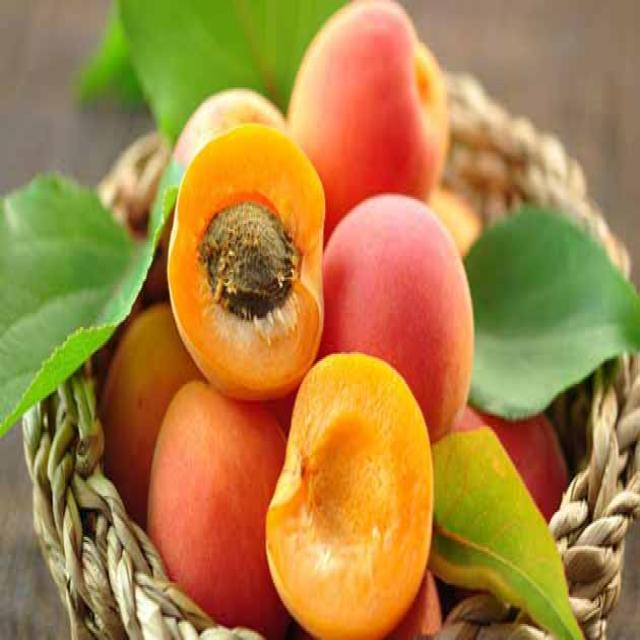cekirdek: (197, 205, 297, 308)
kayisi: (296, 0, 448, 199), (330, 223, 475, 425), (202, 154, 324, 370), (167, 420, 305, 602), (314, 379, 414, 616), (122, 359, 205, 483)
yaprak: (5, 163, 174, 429), (467, 207, 640, 413), (92, 0, 327, 128), (440, 438, 579, 640)
